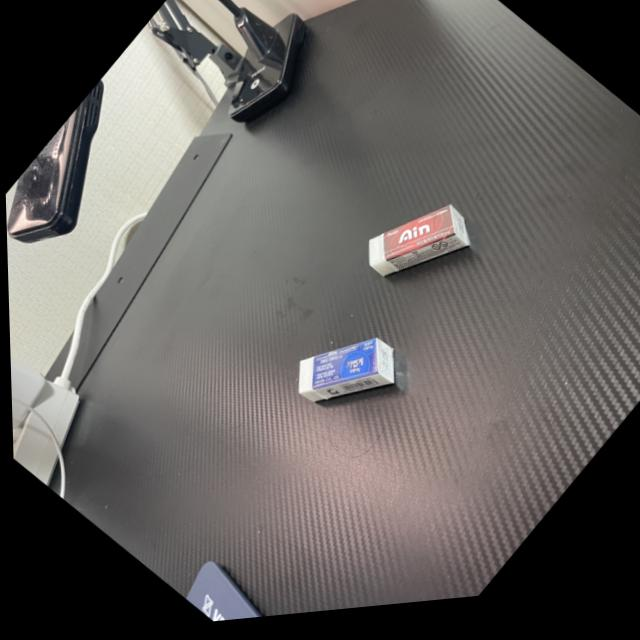blue: (268, 298, 419, 457)
red: (346, 173, 492, 327)
